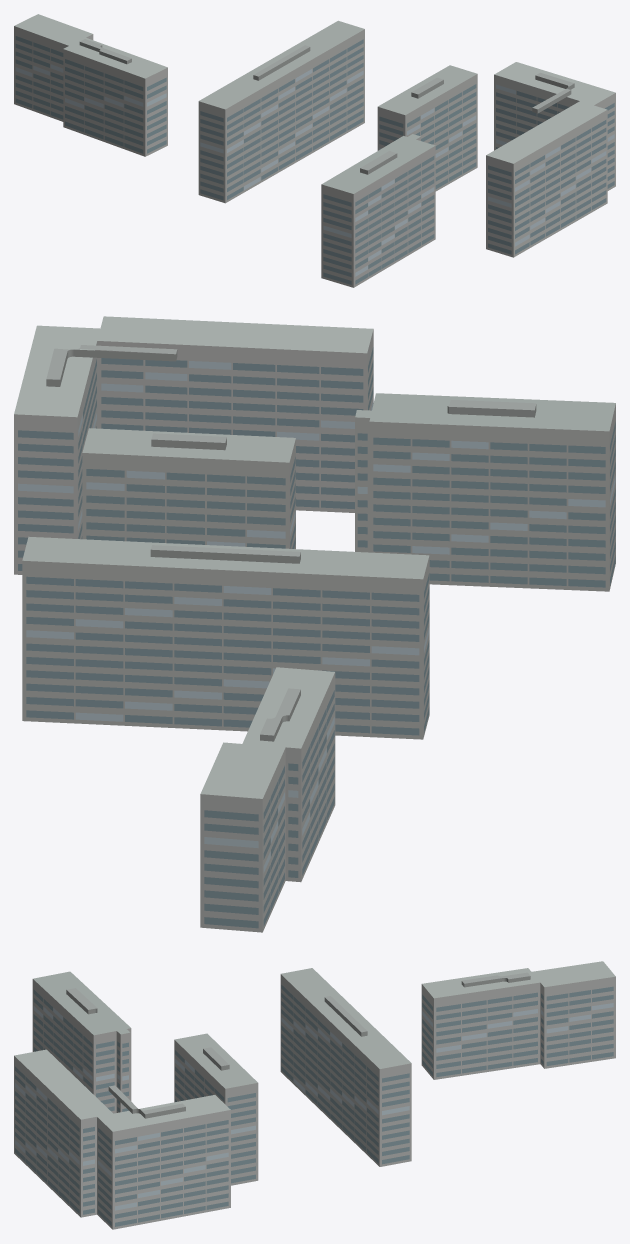
File: apt-a12071003.glb
The picture shows the model from 3 angles, top to bottom: view 1: azimuth 30°, elevation 25°; view 2: azimuth 150°, elevation 25°; view 3: azimuth 270°, elevation 25°; orthographic projection. The views are drawn at different scales.
Parts seen in each view (by area): view 1: apt-a12071003; view 2: apt-a12071003; view 3: apt-a12071003.
Boxes of the visible parts, box(x1,y1,x2,y2) form: apt-a12071003: box(14, 14, 615, 287); apt-a12071003: box(14, 316, 615, 932); apt-a12071003: box(14, 961, 615, 1229).
Bounding box in the file's own units: 150 × 38.25 × 204.
